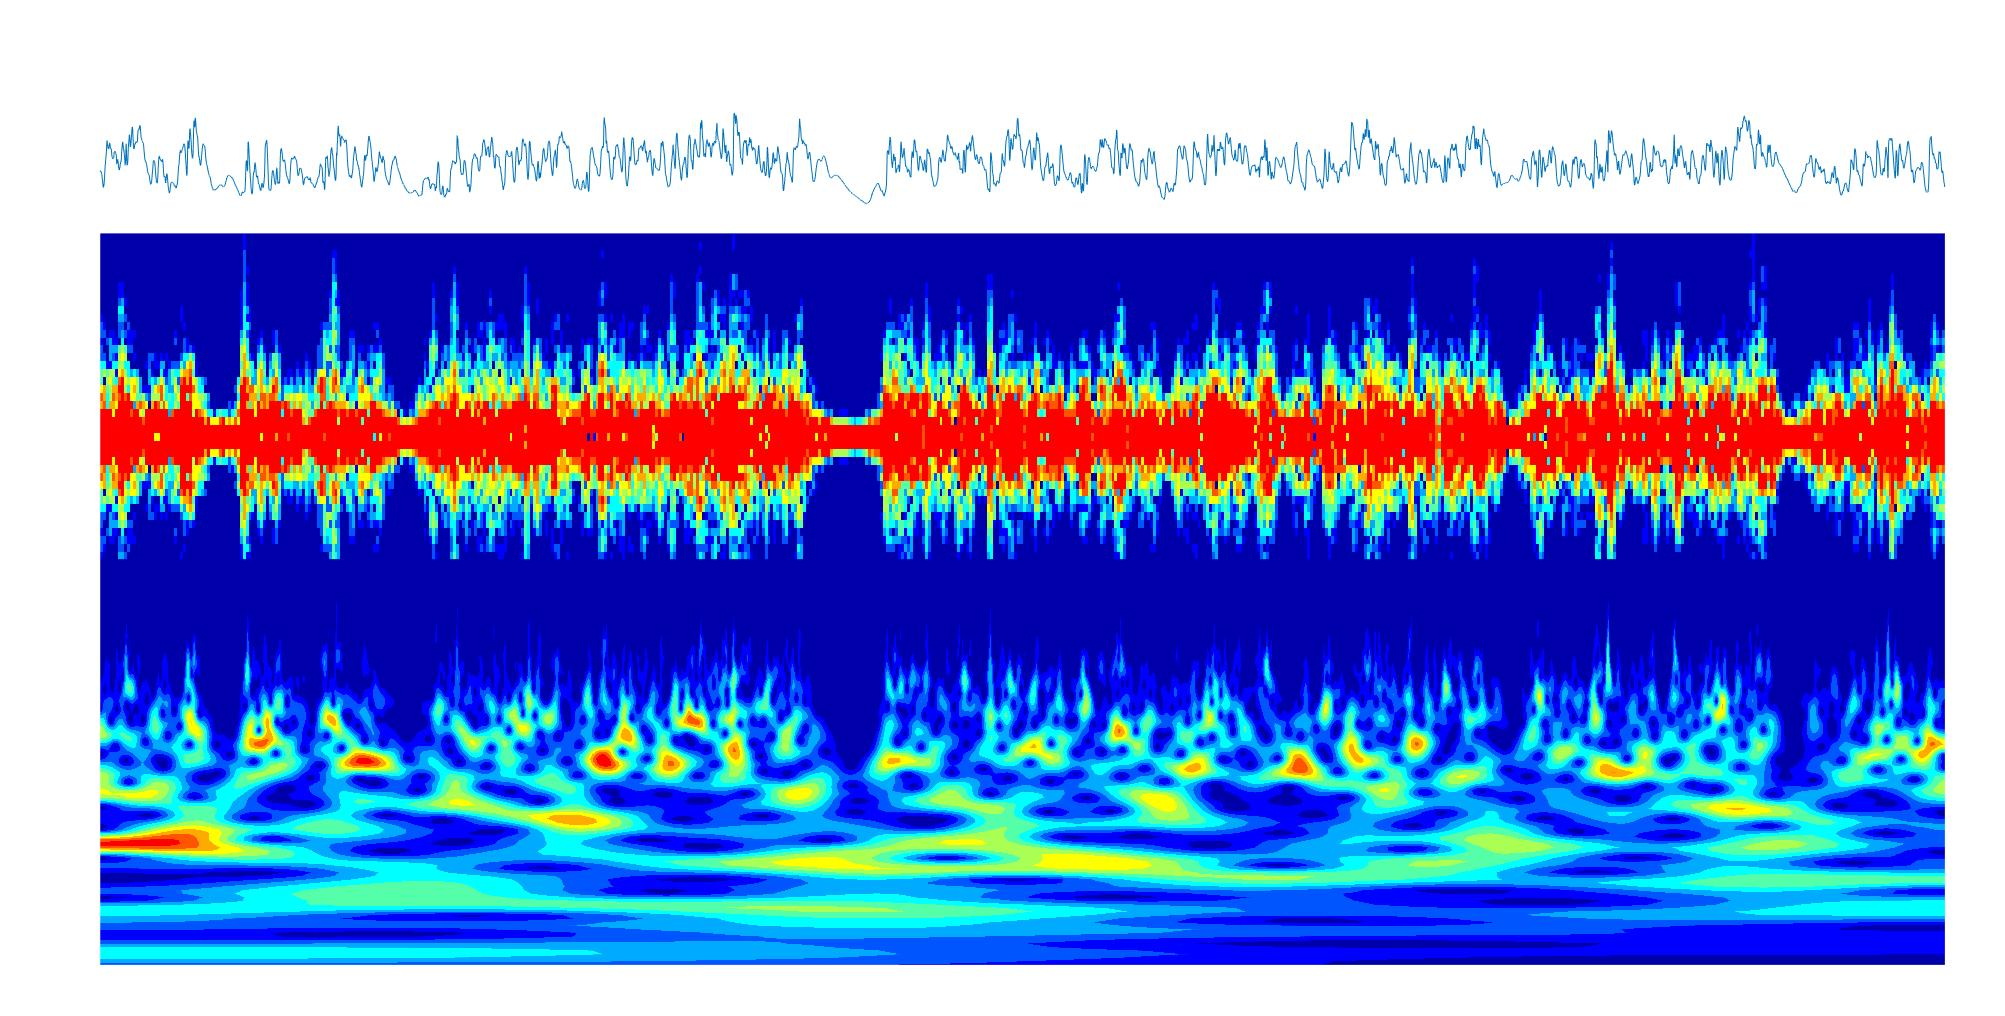TURBULENT: (882, 233, 1500, 963), (424, 235, 813, 964), (1528, 235, 1778, 967), (236, 233, 389, 964), (1808, 233, 1942, 965)
